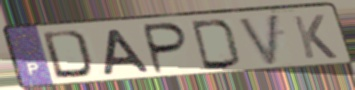A: (102, 27, 154, 77)
D: (40, 28, 99, 81), (189, 19, 244, 72)
K: (290, 13, 340, 61)
P: (143, 21, 192, 77)
V: (235, 11, 281, 68)
